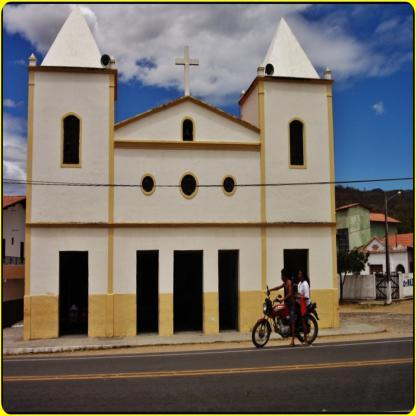motorcycle: (251, 289, 320, 351)
